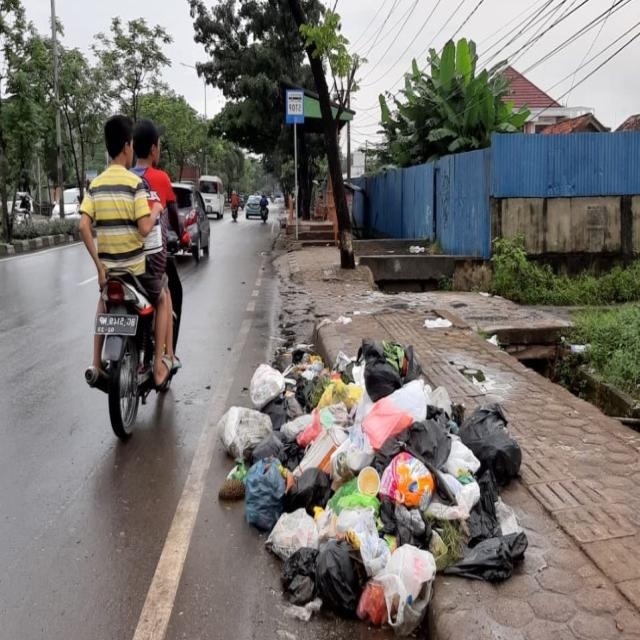sampah-detection: (210, 335, 534, 640)
